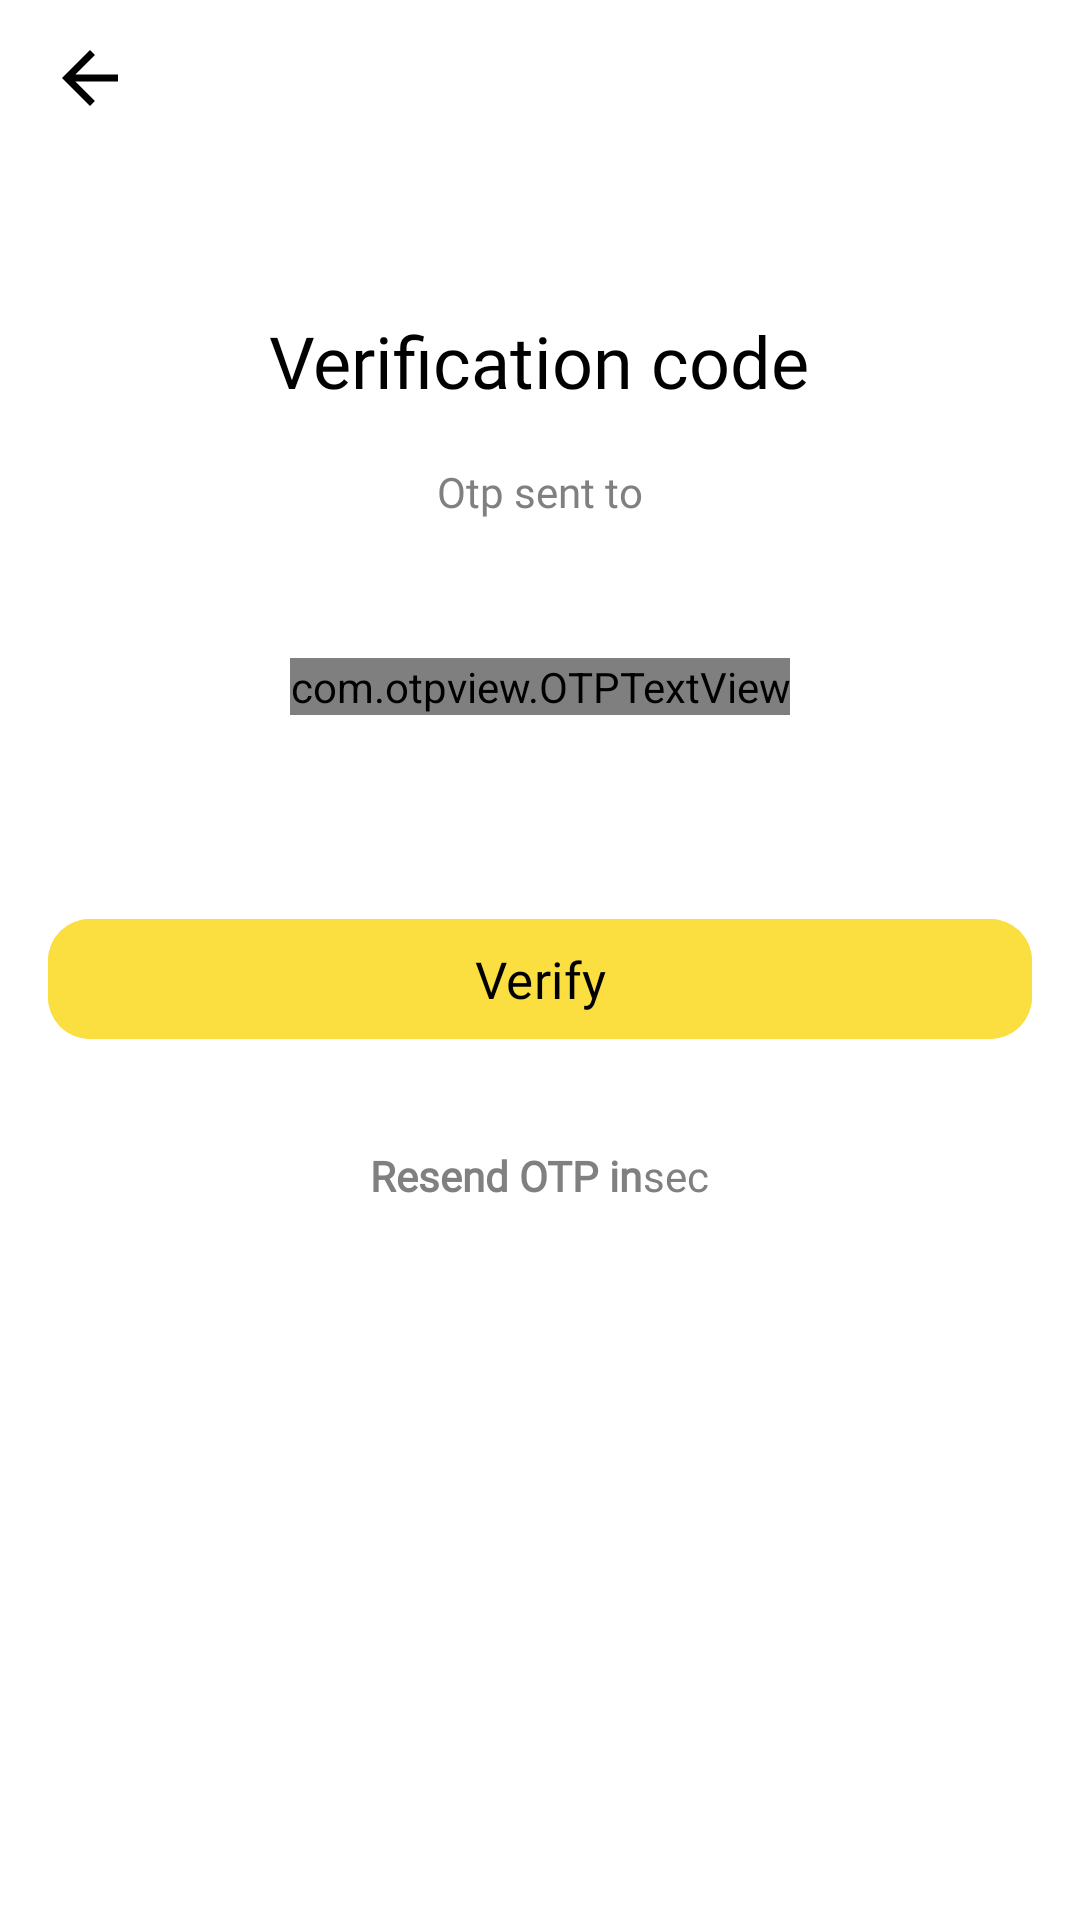

Where to tap for icons on this 1080px×1920px app screen, as (x=x, y=y):
arrow back: (x=90, y=78)
